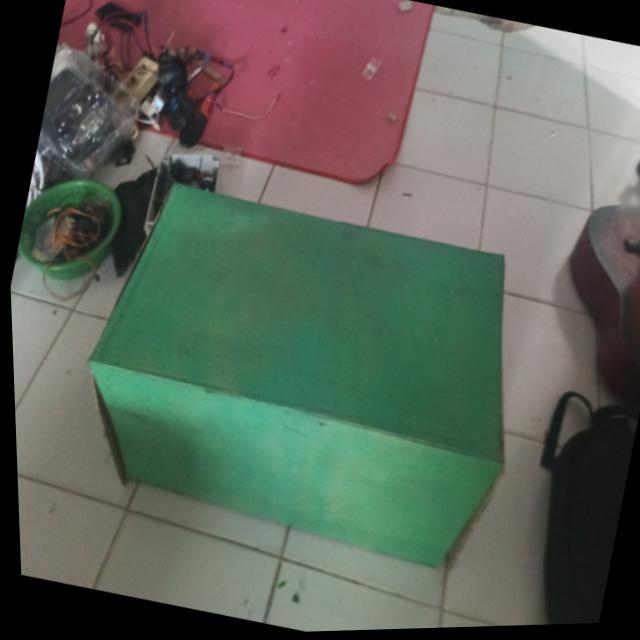green_box: (63, 163, 554, 596)
